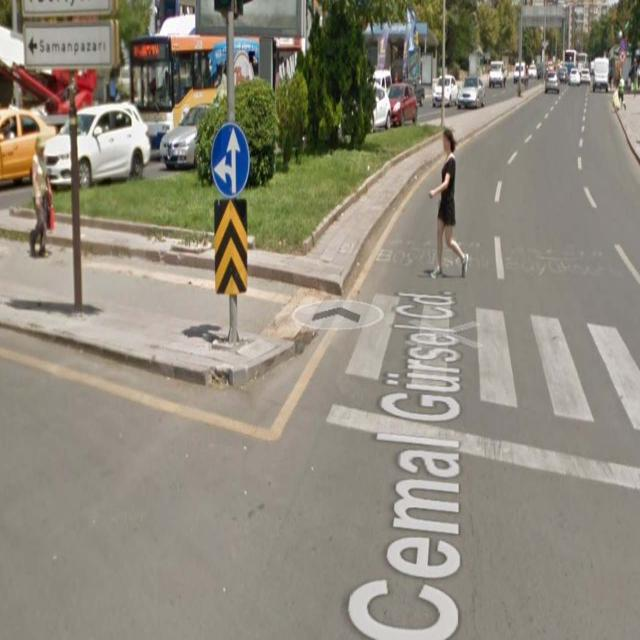ilerisol: (209, 124, 251, 196)
